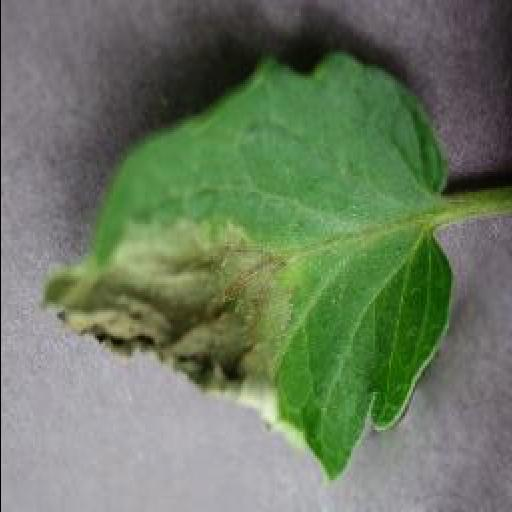disease_tomato: (40, 48, 454, 478)
